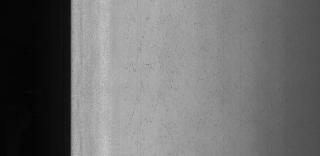silk spot: (121, 10, 211, 136)
